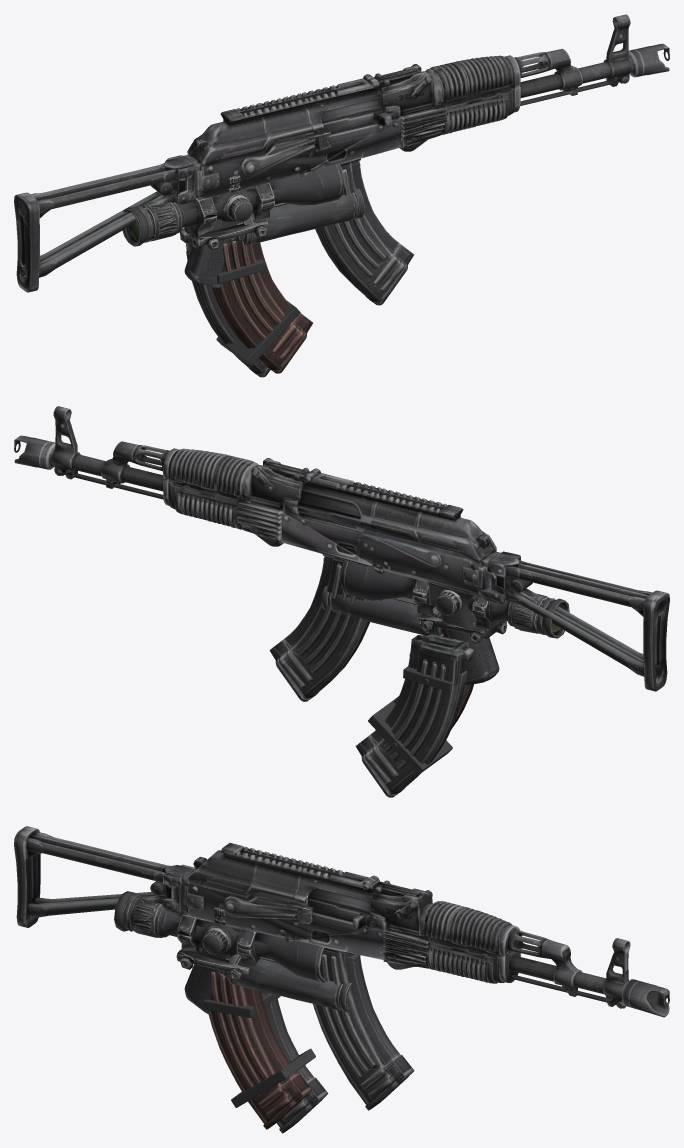
Rendered from varyag.glb.
3 renders of one model, top to bottom at view 1: azimuth 30°, elevation 25°; view 2: azimuth 150°, elevation 25°; view 3: azimuth 330°, elevation 25°, orthographic.
Parts seen in each view (by area): view 1: Varyag_body, stock_factory, optic_sokol, mag_rifle_ap, mag_factory, mag_rifle_twin, muzzle_tishina, muzzle_factory; view 2: Varyag_body, mag_rifle_twin, stock_factory, optic_sokol, mag_factory, muzzle_tishina, muzzle_factory; view 3: Varyag_body, optic_sokol, stock_factory, mag_factory, mag_rifle_ap, mag_rifle_twin, muzzle_tishina, muzzle_factory.
Part boxes in pixels (x1=…): Varyag_body: x1=184, y1=14, x2=633, y2=287; stock_factory: x1=14, y1=154, x2=201, y2=292; optic_sokol: x1=122, y1=164, x2=344, y2=249; mag_rifle_ap: x1=210, y1=222, x2=312, y2=373; mag_factory: x1=315, y1=161, x2=414, y2=305; mag_rifle_twin: x1=180, y1=227, x2=300, y2=377; muzzle_tishina: x1=229, y1=188, x2=364, y2=245; muzzle_factory: x1=628, y1=43, x2=669, y2=77; Varyag_body: x1=51, y1=406, x2=499, y2=685; mag_rifle_twin: x1=355, y1=634, x2=473, y2=797; stock_factory: x1=478, y1=551, x2=669, y2=691; optic_sokol: x1=340, y1=560, x2=569, y2=644; mag_factory: x1=269, y1=556, x2=369, y2=701; muzzle_tishina: x1=321, y1=586, x2=441, y2=635; muzzle_factory: x1=14, y1=435, x2=55, y2=469; Varyag_body: x1=184, y1=843, x2=630, y2=1014; optic_sokol: x1=114, y1=891, x2=325, y2=982; stock_factory: x1=14, y1=826, x2=195, y2=927; mag_factory: x1=313, y1=950, x2=414, y2=1110; mag_rifle_ap: x1=199, y1=947, x2=312, y2=1129; mag_rifle_twin: x1=203, y1=991, x2=328, y2=1133; muzzle_tishina: x1=217, y1=954, x2=351, y2=1012; muzzle_factory: x1=622, y1=979, x2=669, y2=1017.
Bounding box in the file's own units: 0.88 × 0.3731 × 0.0983.
5 materials, 4 textured.
